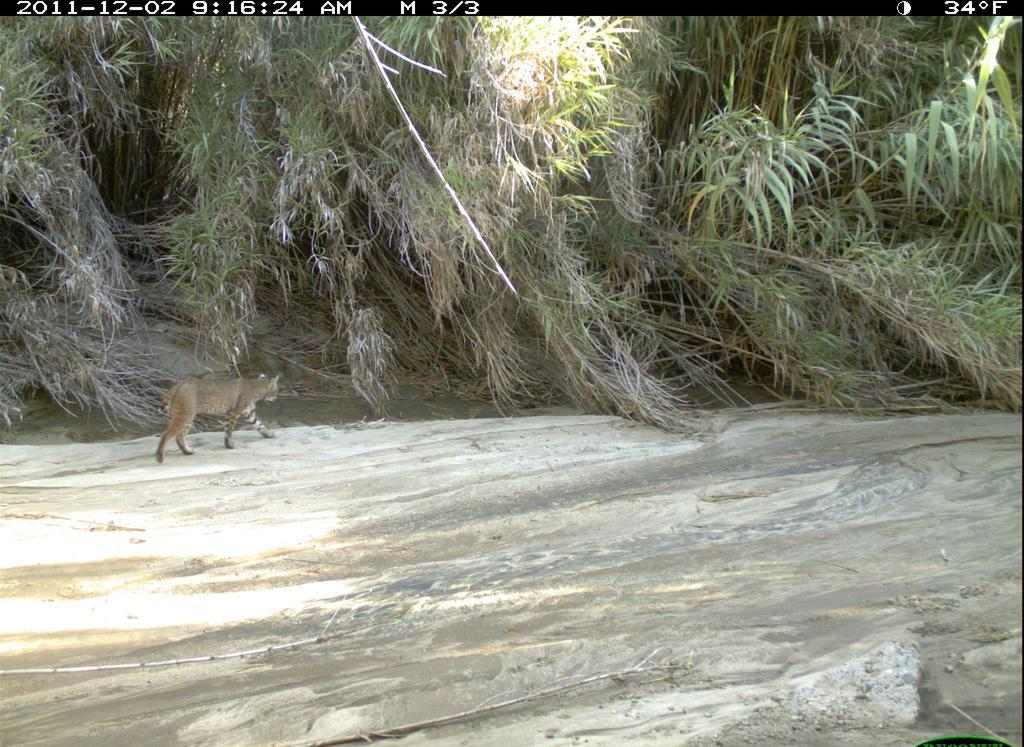bobcat: (152, 359, 289, 469)
